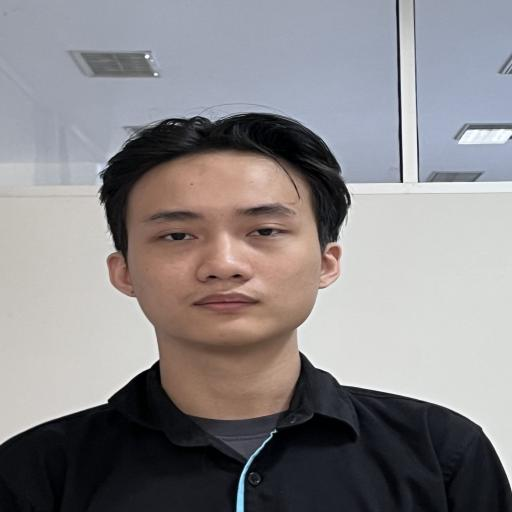wajah: (5, 97, 431, 438)
